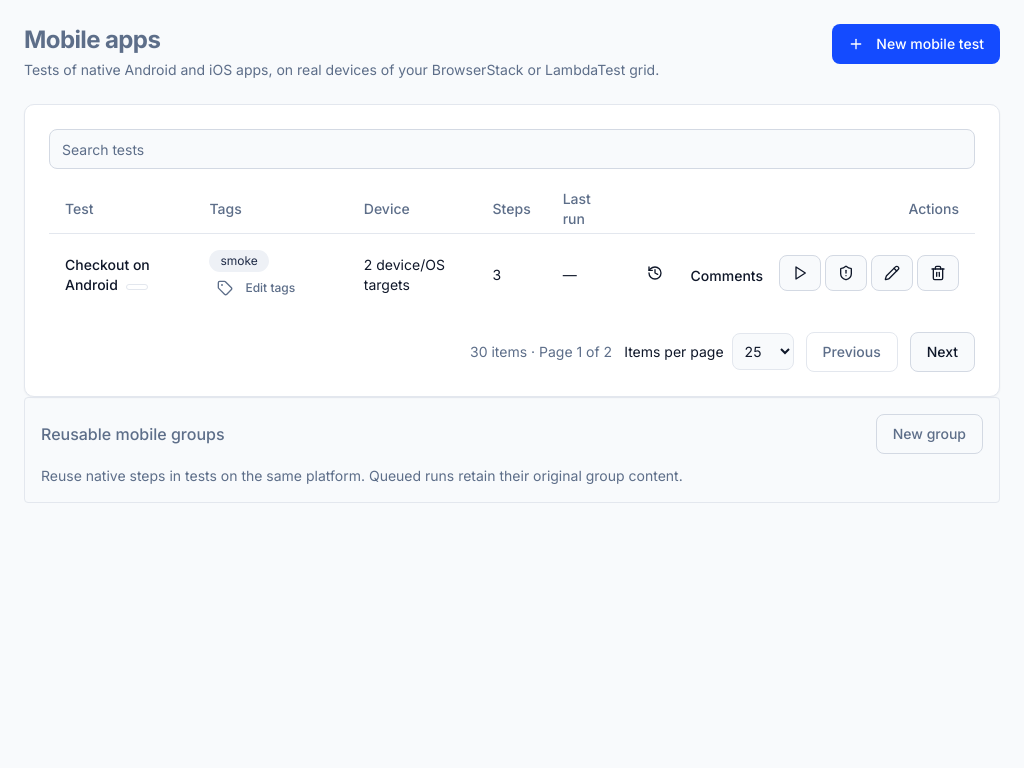
Test: Mobile catalog pagination and definitions › loads the full definition before opening the editor
This screenshot has width=1024, height=768.
Click the button named "Edit Checkout on Android" at (892, 273), box [871, 255, 913, 291]
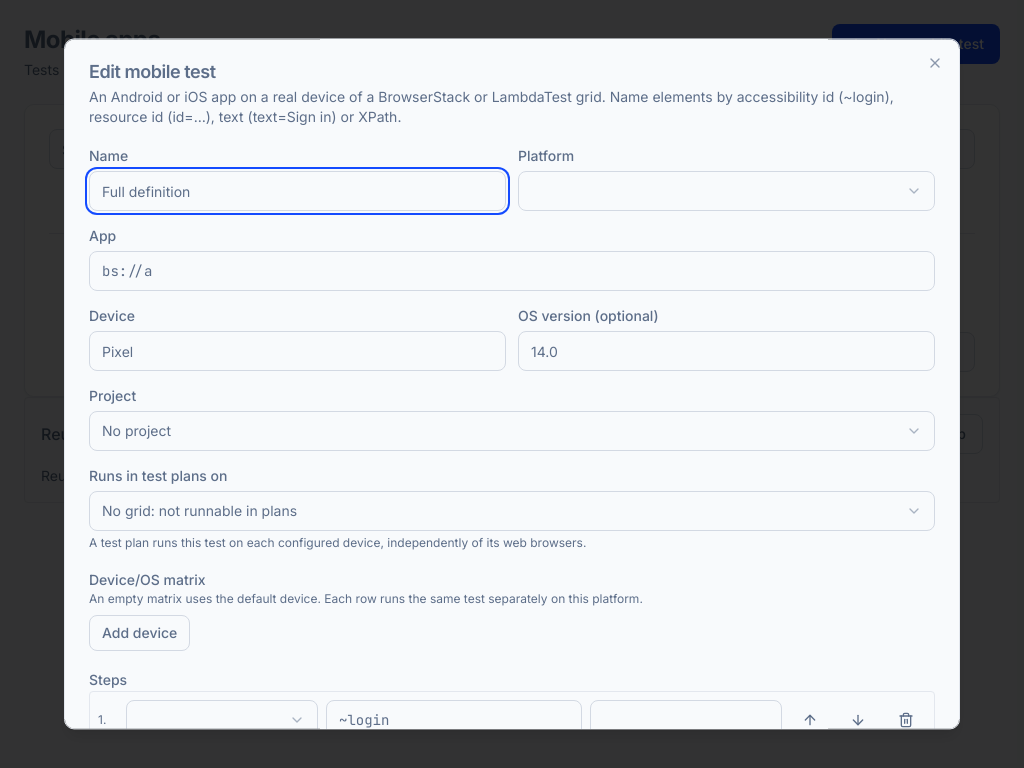
Check: the field showing "Full definition" is shown, box [89, 171, 506, 211]
